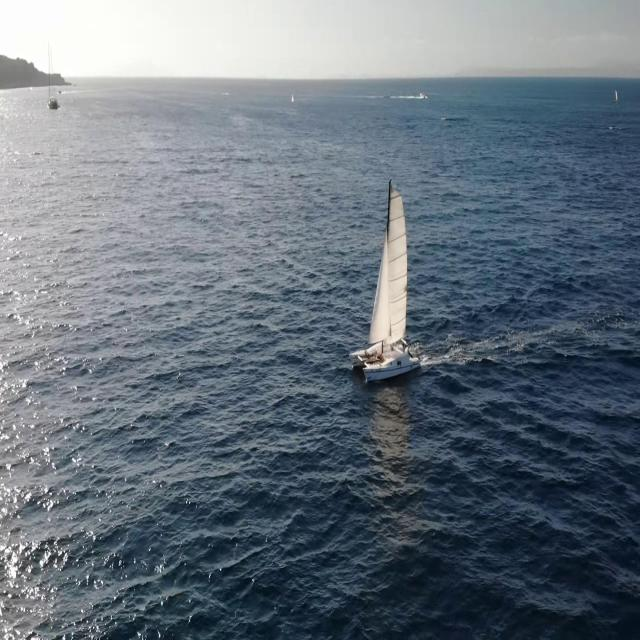sailboat: (348, 164, 419, 382)
